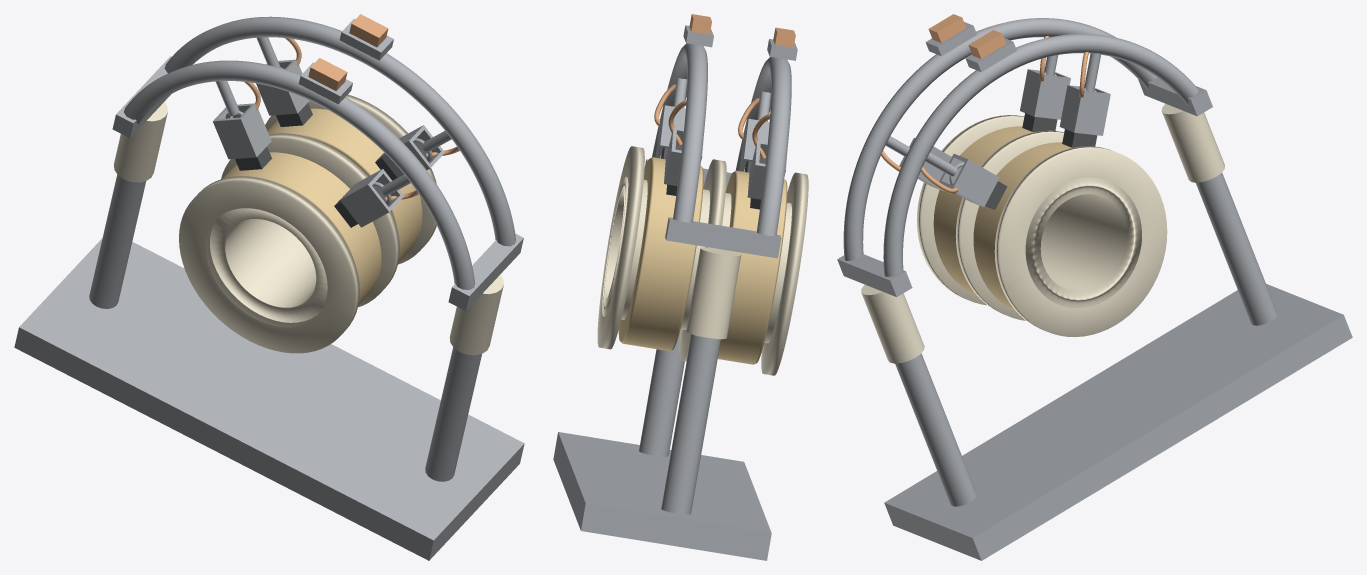
The model's file is sync_sliprings.glb.
The picture shows the model from 3 angles, left to right: view 1: azimuth 30°, elevation 25°; view 2: azimuth 150°, elevation 25°; view 3: azimuth 270°, elevation 25°; orthographic projection. The views are drawn at different scales.
Size of the model in its own units: 0.444 by 0.6021 by 0.5783.
